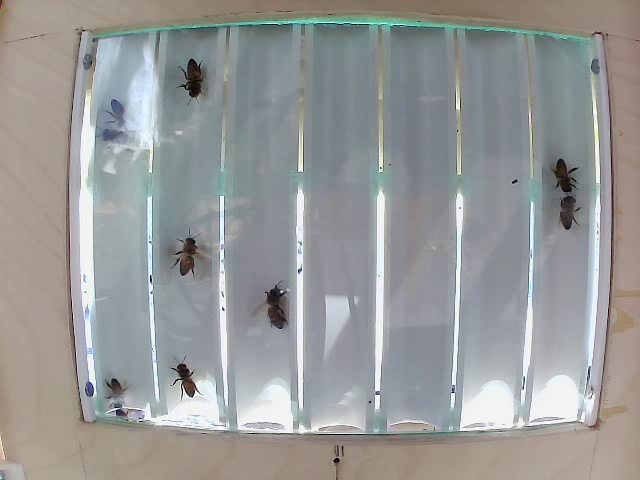bee: (255, 286, 300, 330), (171, 238, 215, 283), (170, 54, 212, 100), (157, 359, 202, 397), (103, 97, 145, 135), (96, 117, 139, 152), (555, 194, 592, 232), (548, 158, 575, 192)
